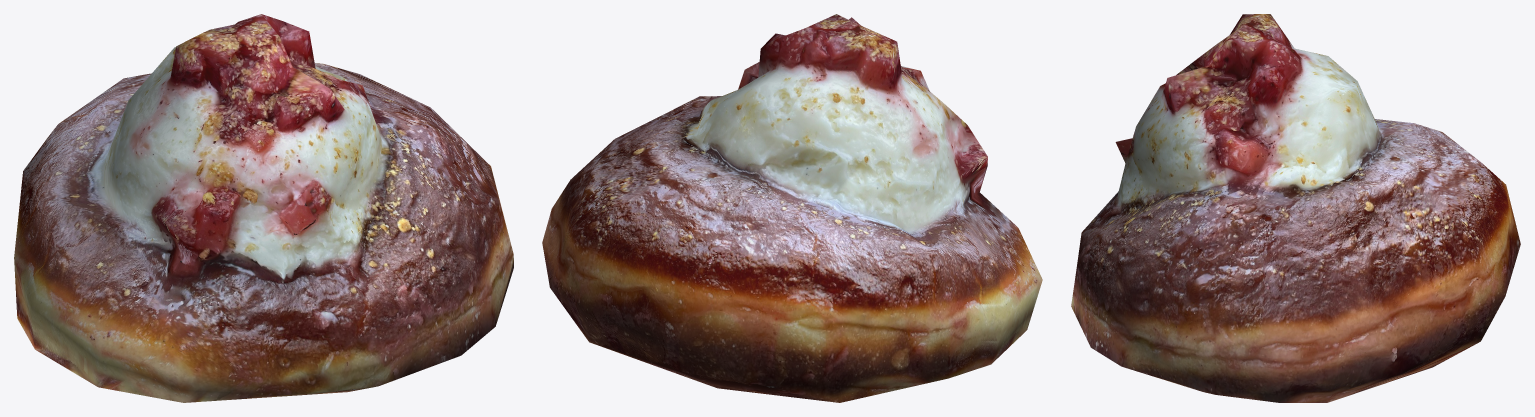
File: Strawberry & Cream Donut.fbx
The picture shows the model from 3 angles, left to right: view 1: azimuth 30°, elevation 25°; view 2: azimuth 150°, elevation 25°; view 3: azimuth 270°, elevation 25°; orthographic projection. The views are drawn at different scales.
Parts seen in each view (by area): view 1: Strawberry & Cream Donut; view 2: Strawberry & Cream Donut; view 3: Strawberry & Cream Donut.
Boxes of the visible parts, bbox=[...] form: Strawberry & Cream Donut: bbox=[14, 14, 513, 402]; Strawberry & Cream Donut: bbox=[542, 14, 1042, 402]; Strawberry & Cream Donut: bbox=[1071, 14, 1520, 402].
Bounding box in the file's own units: 9.97 × 6.24 × 9.38.
